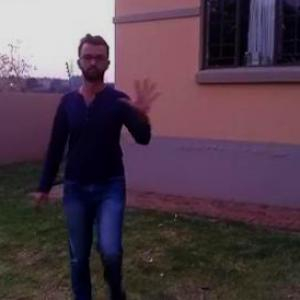follow_hand: (117, 74, 164, 115)
